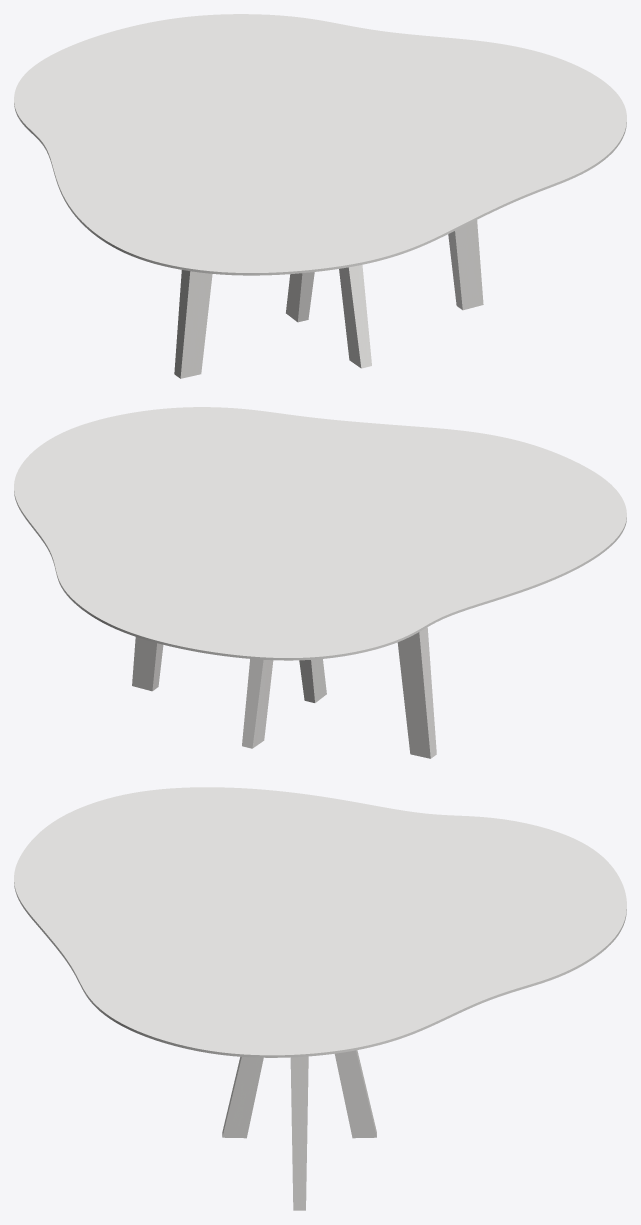
The model's file is purewhite_topone_facet_searwalnut.glb.
The picture shows the model from 3 angles, top to bottom: view 1: azimuth 30°, elevation 25°; view 2: azimuth 150°, elevation 25°; view 3: azimuth 270°, elevation 25°; orthographic projection. The views are drawn at different scales.
Visible parts, largest first — view 1: facet_topone, searwalnut; view 2: facet_topone, searwalnut; view 3: facet_topone, searwalnut.
Boxes of the visible parts, x1,y1,x2,y2 form: facet_topone: (14,14,626,275); searwalnut: (174,220,483,378); facet_topone: (14,407,626,660); searwalnut: (132,627,436,758); facet_topone: (14,787,626,1057); searwalnut: (222,1050,376,1210).
Bounding box in the file's own units: 6.83 × 2.5 × 6.6.
1 material, 1 textured.
